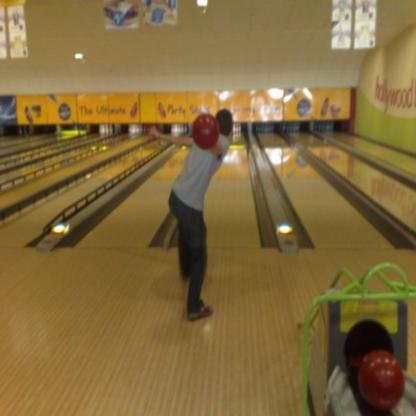Ball: (356, 351, 404, 414), (191, 111, 218, 150)
